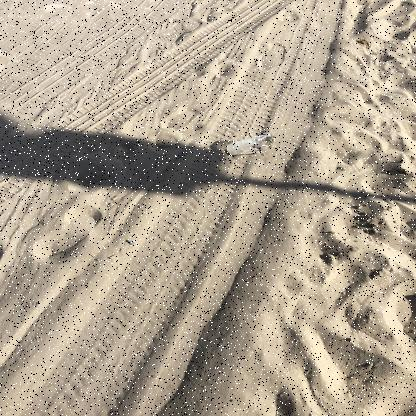Cigarette: (111, 196, 119, 201)
Disposable plastic cup: (227, 136, 264, 155)
Unlabeled litter: (248, 133, 276, 144)
